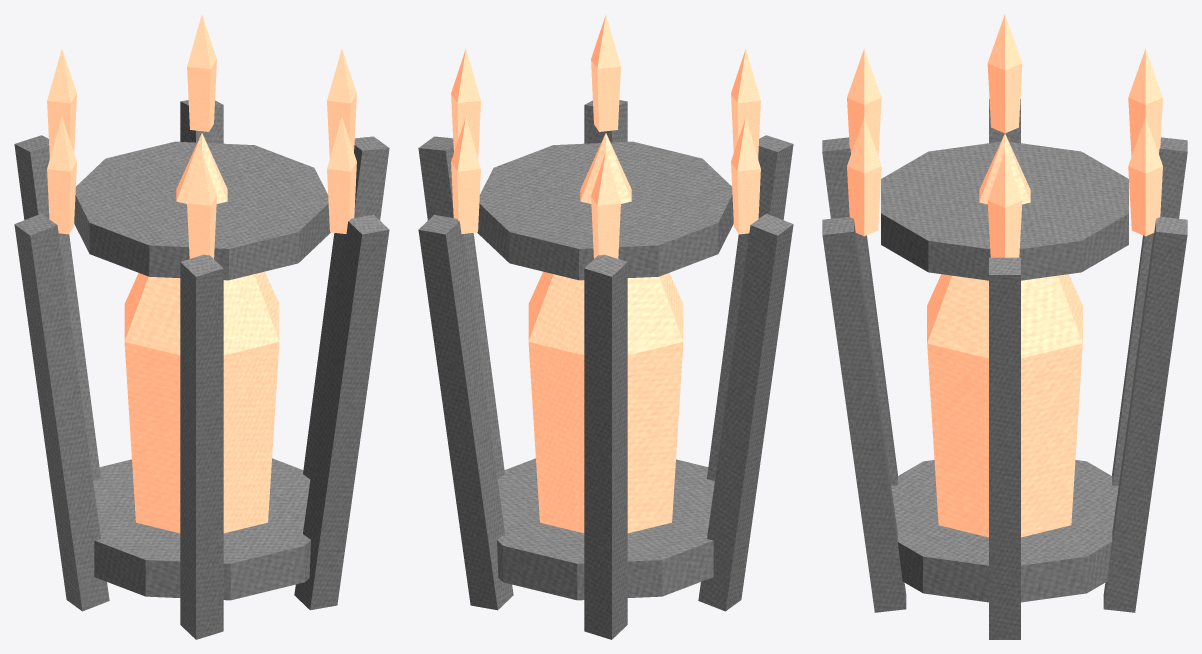
The model's file is boss-fader-ashheart.glb.
3 views of the same model, side by side, from view 1: azimuth 30°, elevation 25°; view 2: azimuth 150°, elevation 25°; view 3: azimuth 270°, elevation 25° (orthographic).
Parts seen in each view (by area): view 1: ash-core, ash-band-high, cage-rib-1, cage-rib-2, cage-rib-3, ash-band-low, cage-rib-4, cage-rib-0, ember-tip-5, ember-tip-1, ember-tip-3, ember-tip-2 (+3 smaller); view 2: ash-core, ash-band-high, cage-rib-5, cage-rib-4, cage-rib-3, ash-band-low, cage-rib-2, cage-rib-0, ember-tip-1, ember-tip-5, ember-tip-3, ember-tip-4 (+3 smaller); view 3: ash-core, ash-band-high, ash-band-low, cage-rib-1, cage-rib-5, cage-rib-0, cage-rib-2, cage-rib-4, ember-tip-3, ember-tip-1, ember-tip-5, ember-tip-0 (+2 smaller).
Part boxes in pixels (x1=…): ash-core: x1=124, y1=133, x2=279, y2=533; ash-band-high: x1=74, y1=141, x2=330, y2=280; cage-rib-1: x1=294, y1=214, x2=389, y2=610; cage-rib-2: x1=180, y1=254, x2=223, y2=639; cage-rib-3: x1=14, y1=213, x2=109, y2=611; ash-band-low: x1=93, y1=458, x2=310, y2=600; cage-rib-4: x1=14, y1=135, x2=100, y2=480; cage-rib-0: x1=303, y1=136, x2=389, y2=478; ember-tip-5: x1=187, y1=15, x2=216, y2=131; ember-tip-1: x1=327, y1=117, x2=356, y2=233; ember-tip-3: x1=47, y1=117, x2=76, y2=234; ember-tip-2: x1=187, y1=151, x2=216, y2=258; ash-core: x1=528, y1=133, x2=683, y2=533; ash-band-high: x1=477, y1=141, x2=733, y2=280; cage-rib-5: x1=418, y1=214, x2=513, y2=610; cage-rib-4: x1=584, y1=254, x2=627, y2=639; cage-rib-3: x1=698, y1=213, x2=793, y2=611; ash-band-low: x1=497, y1=458, x2=714, y2=600; cage-rib-2: x1=707, y1=135, x2=793, y2=480; cage-rib-0: x1=418, y1=136, x2=504, y2=478; ember-tip-1: x1=591, y1=15, x2=620, y2=131; ember-tip-5: x1=451, y1=117, x2=480, y2=233; ember-tip-3: x1=731, y1=117, x2=760, y2=234; ember-tip-4: x1=591, y1=151, x2=620, y2=258; ash-core: x1=927, y1=133, x2=1082, y2=537; ash-band-high: x1=881, y1=141, x2=1128, y2=280; ash-band-low: x1=891, y1=460, x2=1118, y2=602; cage-rib-1: x1=822, y1=216, x2=906, y2=612; cage-rib-5: x1=1103, y1=216, x2=1187, y2=612; cage-rib-0: x1=989, y1=257, x2=1020, y2=639; cage-rib-2: x1=822, y1=137, x2=897, y2=485; cage-rib-4: x1=1112, y1=137, x2=1187, y2=485; ember-tip-3: x1=987, y1=14, x2=1022, y2=133; ember-tip-1: x1=847, y1=117, x2=881, y2=236; ember-tip-5: x1=1128, y1=117, x2=1162, y2=236; ember-tip-0: x1=987, y1=152, x2=1022, y2=257.
Bounding box in the file's own units: 0.7188 × 0.9426 × 0.6303.
4 materials, 4 textured.
